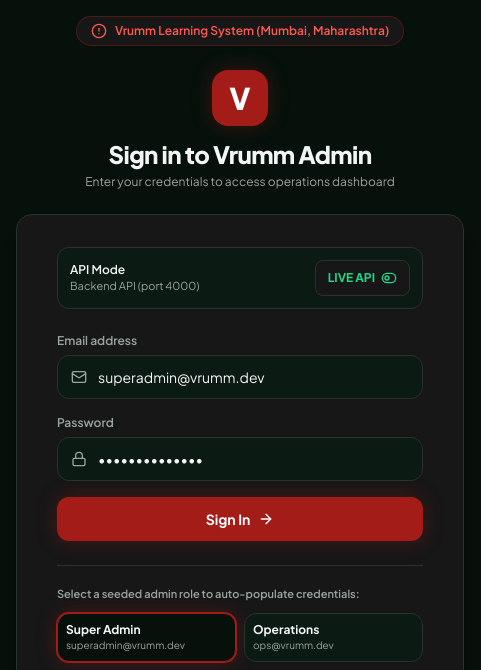
Test case: Login Page › submits credentials and handles server error message gracefully
Click the button "Sign In" at (240, 519), box x1=57 y1=497 x2=423 y2=541
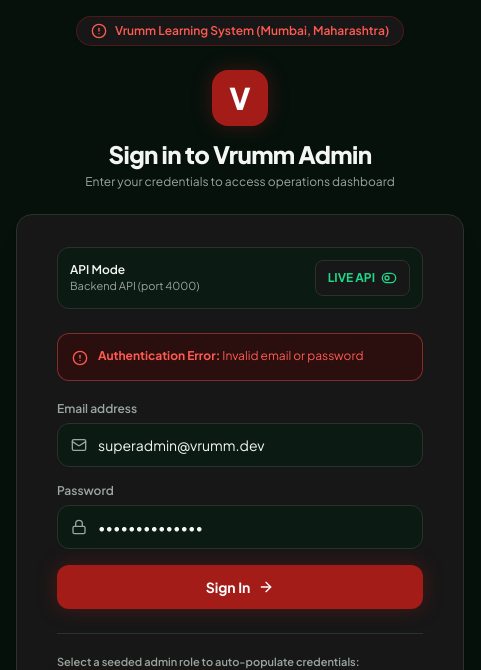
Now the text "Invalid email or password" is shown, box x1=222 y1=348 x2=364 y2=363
